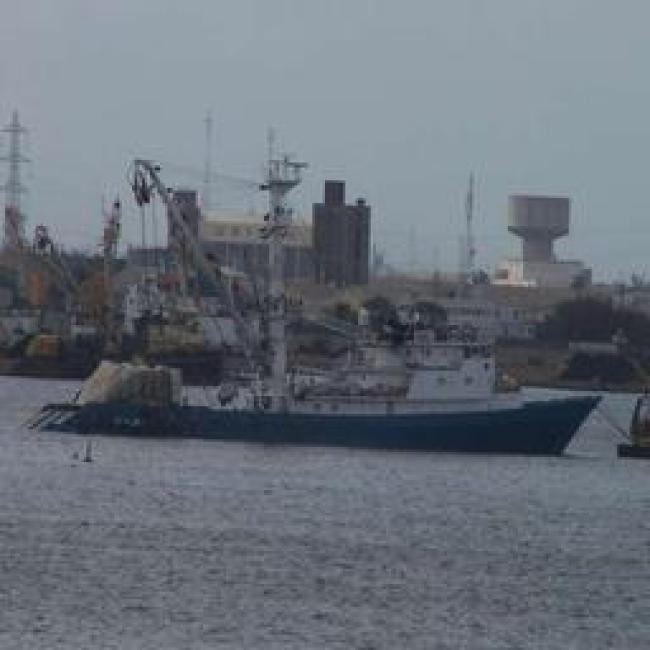Ship: (44, 338, 605, 466)
